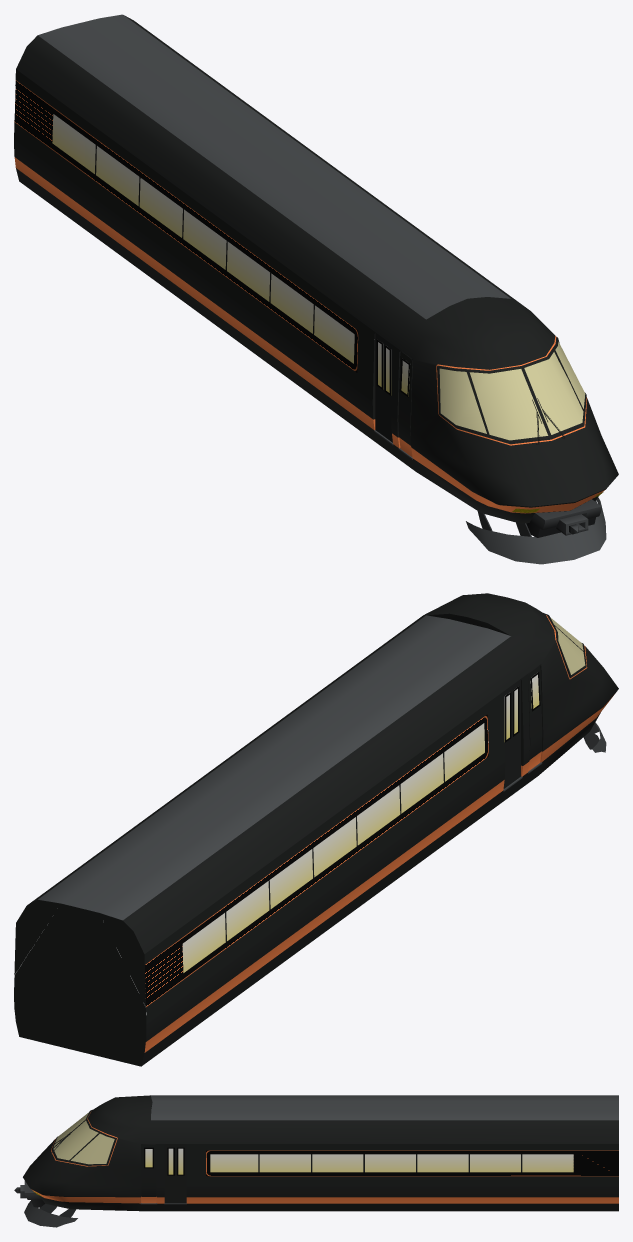
3 views of the same model, one above another, from view 1: azimuth 30°, elevation 25°; view 2: azimuth 150°, elevation 25°; view 3: azimuth 270°, elevation 25° (orthographic). The views are drawn at different scales.
Parts seen in each view (by area): view 1: obj2; view 2: obj2; view 3: obj2.
Boxes of the visible parts, x1,y1,x2,y2 form: obj2: (14,14,618,564); obj2: (14,593,618,1066); obj2: (14,1095,618,1227).
Bounding box in the file's own units: 6.49 × 8.57 × 42.61.
Materials: 17 (16 with a texture image).
